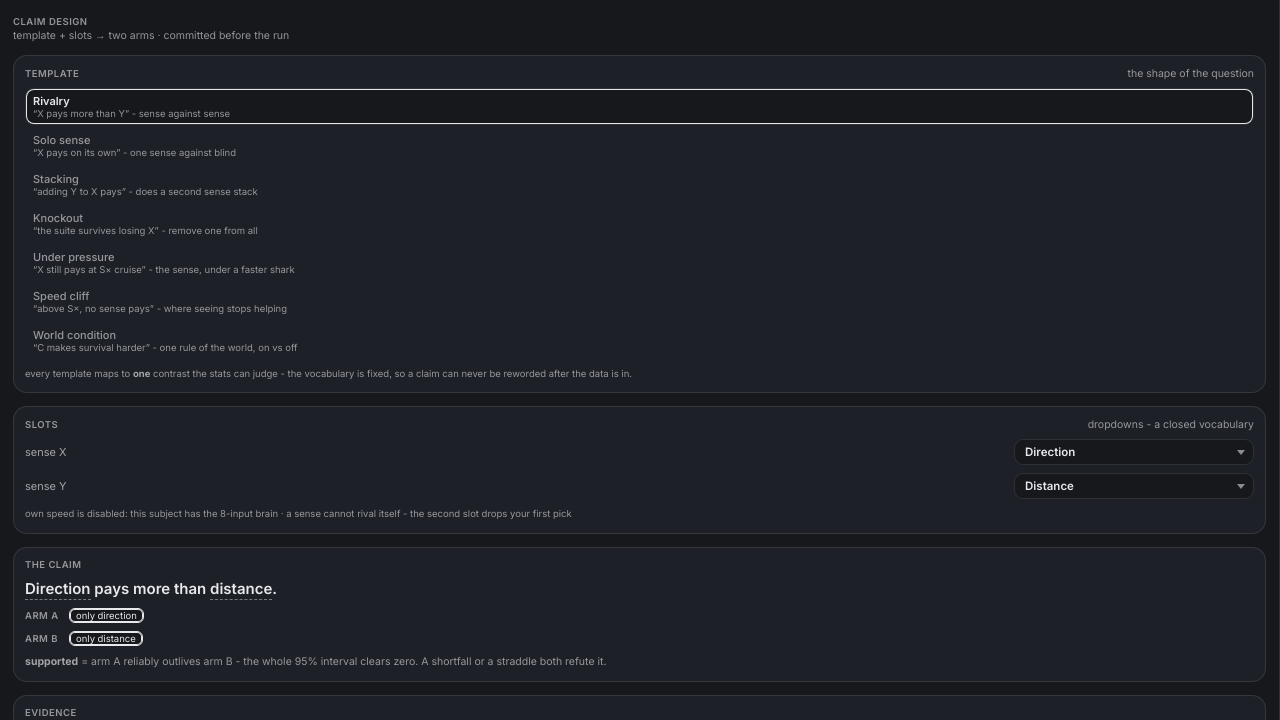
Test: LedgerDesignPanel › a slot pick lands in the store and recomposes the claim sentence
Select "Walls" in the dropdown labelled "sense Y" at (1134, 486), box [1014, 473, 1254, 499]
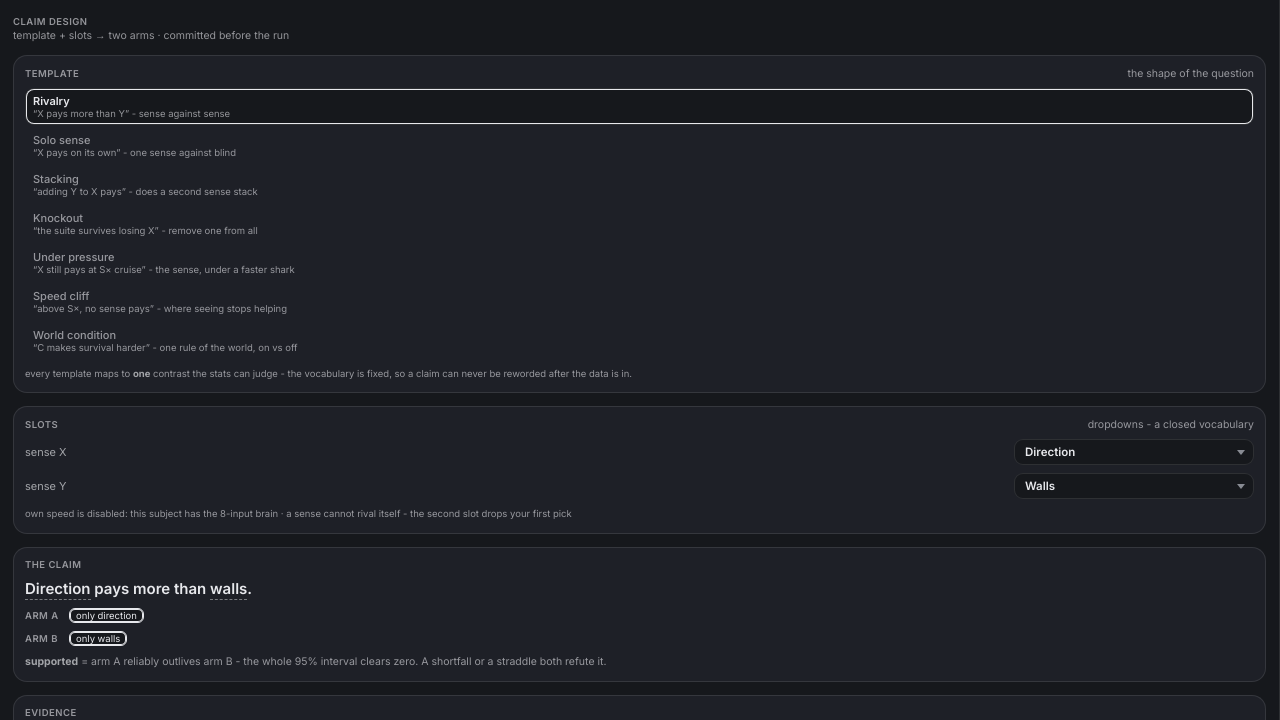
Now the element with test id "ledger-claim-preview" reads "Direction pays more than walls.", box [25, 578, 252, 600]
